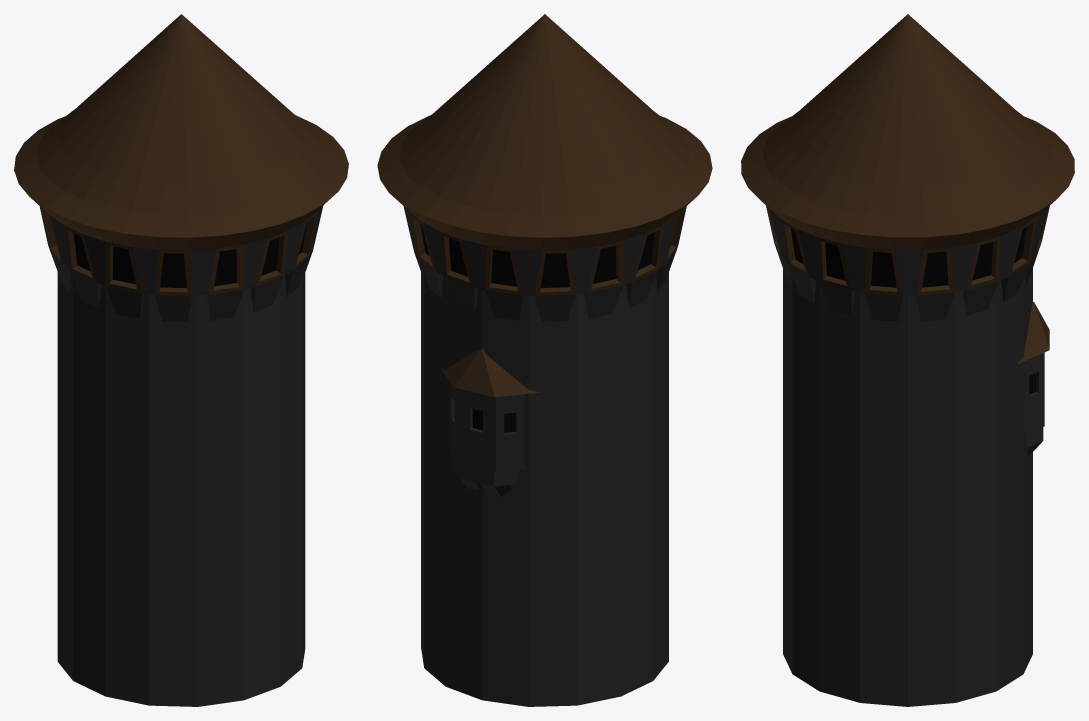
File: tower_001.fbx
3 views of the same model, side by side, from view 1: azimuth 30°, elevation 25°; view 2: azimuth 150°, elevation 25°; view 3: azimuth 270°, elevation 25° (orthographic).
Parts seen in each view (by area): view 1: tower_001; view 2: tower_001; view 3: tower_001.
Part boxes in pixels (x1,y1,x2,y2): tower_001: (14, 14, 348, 706); tower_001: (377, 14, 712, 706); tower_001: (741, 14, 1074, 706).
Bounding box in the file's own units: 1652 × 3497 × 1652.
